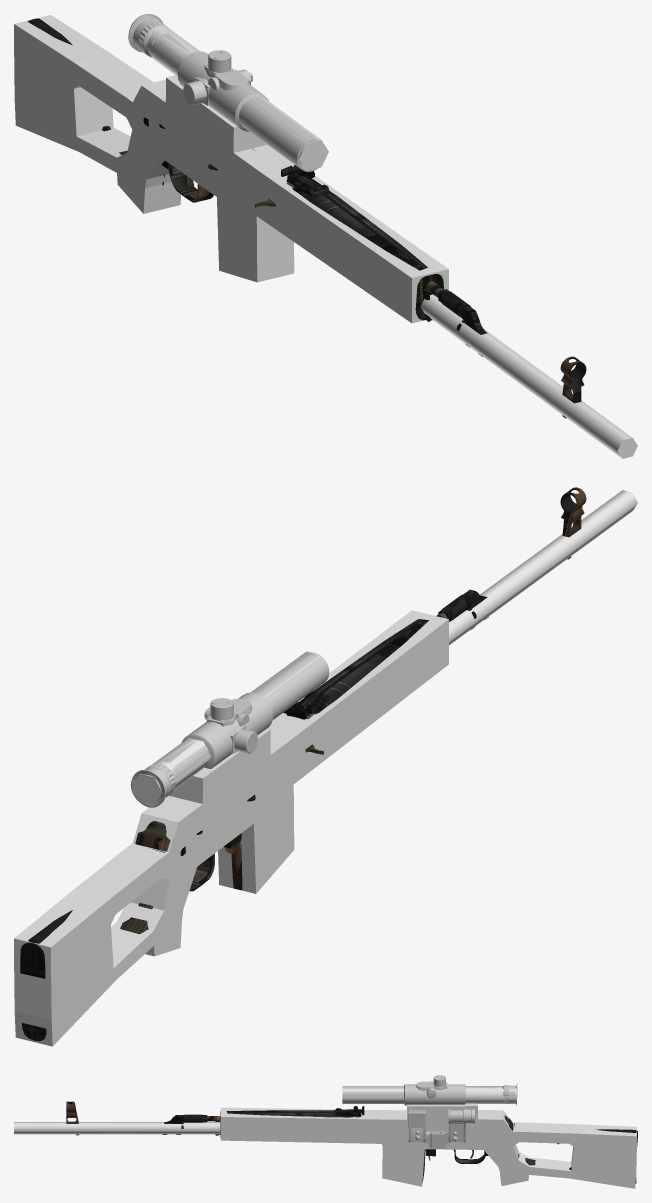
File: svd.FBX
3 views of the same model, one above another, from view 1: azimuth 30°, elevation 25°; view 2: azimuth 150°, elevation 25°; view 3: azimuth 270°, elevation 25° (orthographic). The views are drawn at different scales.
Visible parts, largest first — view 1: lod, SVD; view 2: lod, SVD; view 3: lod, SVD.
Part boxes in pixels (x1=…): lod: x1=14, y1=15, x2=637, y2=458; SVD: x1=27, y1=14, x2=586, y2=418; lod: x1=14, y1=490, x2=637, y2=1046; SVD: x1=20, y1=487, x2=586, y2=1041; lod: x1=14, y1=1086, x2=636, y2=1188; SVD: x1=66, y1=1075, x2=637, y2=1183.
Size of the model in its own units: 8.4 by 23.45 by 124.
